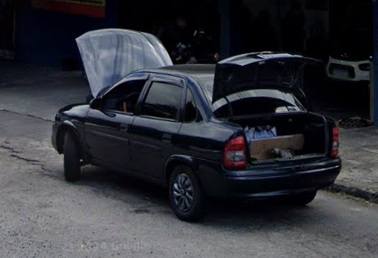car: (52, 26, 343, 225)
